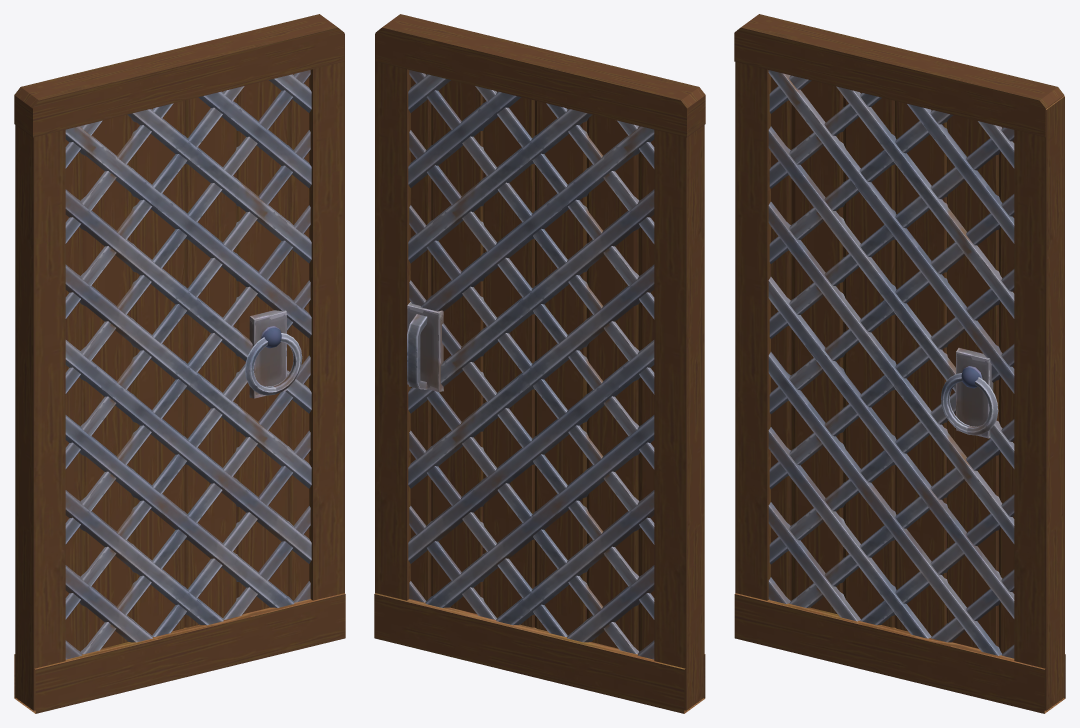
The model's file is Door_4_Flat.glb.
The picture shows the model from 3 angles, left to right: view 1: azimuth 30°, elevation 25°; view 2: azimuth 150°, elevation 25°; view 3: azimuth 330°, elevation 25°; orthographic projection.
Parts seen in each view (by area): view 1: Door_4_Flat; view 2: Door_4_Flat; view 3: Door_4_Flat.
Part boxes in pixels (<box>): Door_4_Flat: <box>14,14,345,713</box>; Door_4_Flat: <box>374,14,705,713</box>; Door_4_Flat: <box>734,14,1065,713</box>.
Size of the model in its own units: 1.12 by 2.09 by 0.2094.
2 materials, 2 textured.
